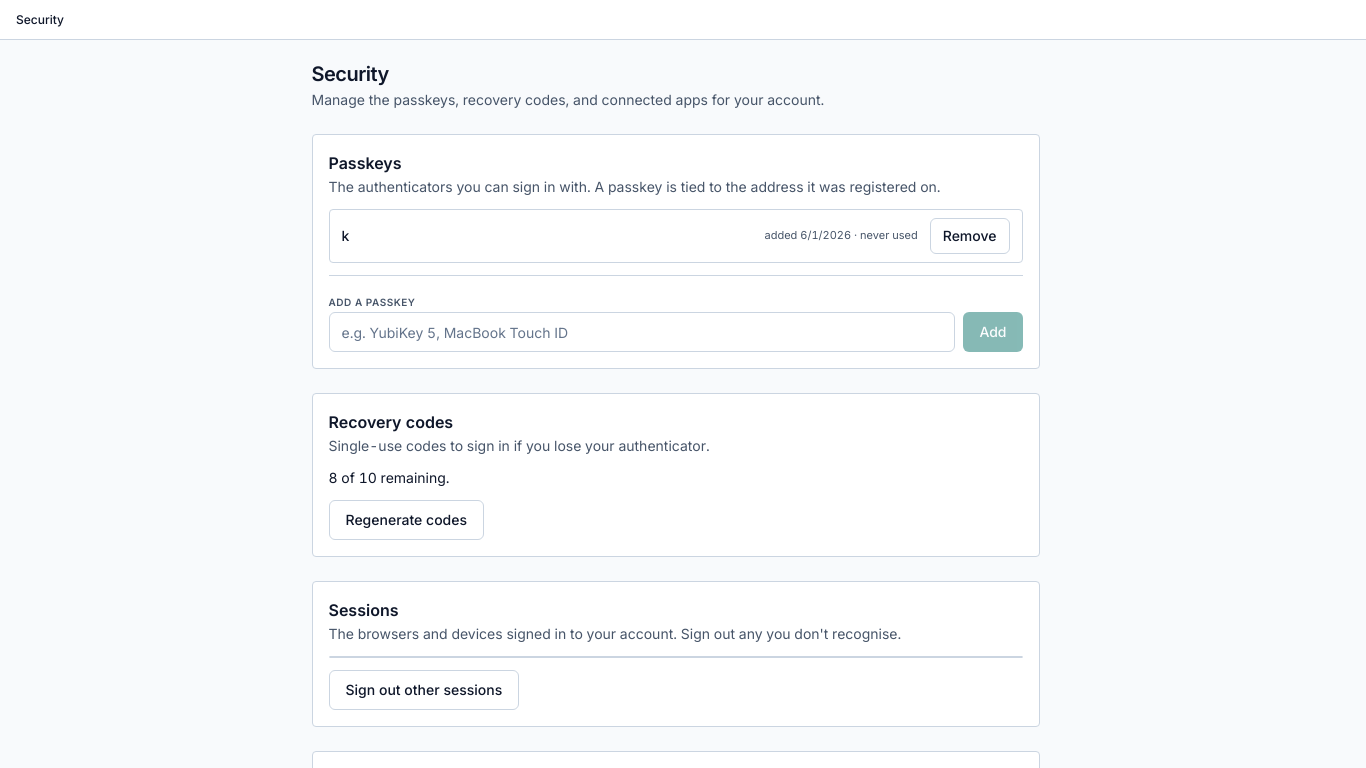
it: AccountSecurityPage › shows the fresh codes after regenerating
Click the button "Regenerate codes" at (406, 520), box x1=328 y1=500 x2=484 y2=540
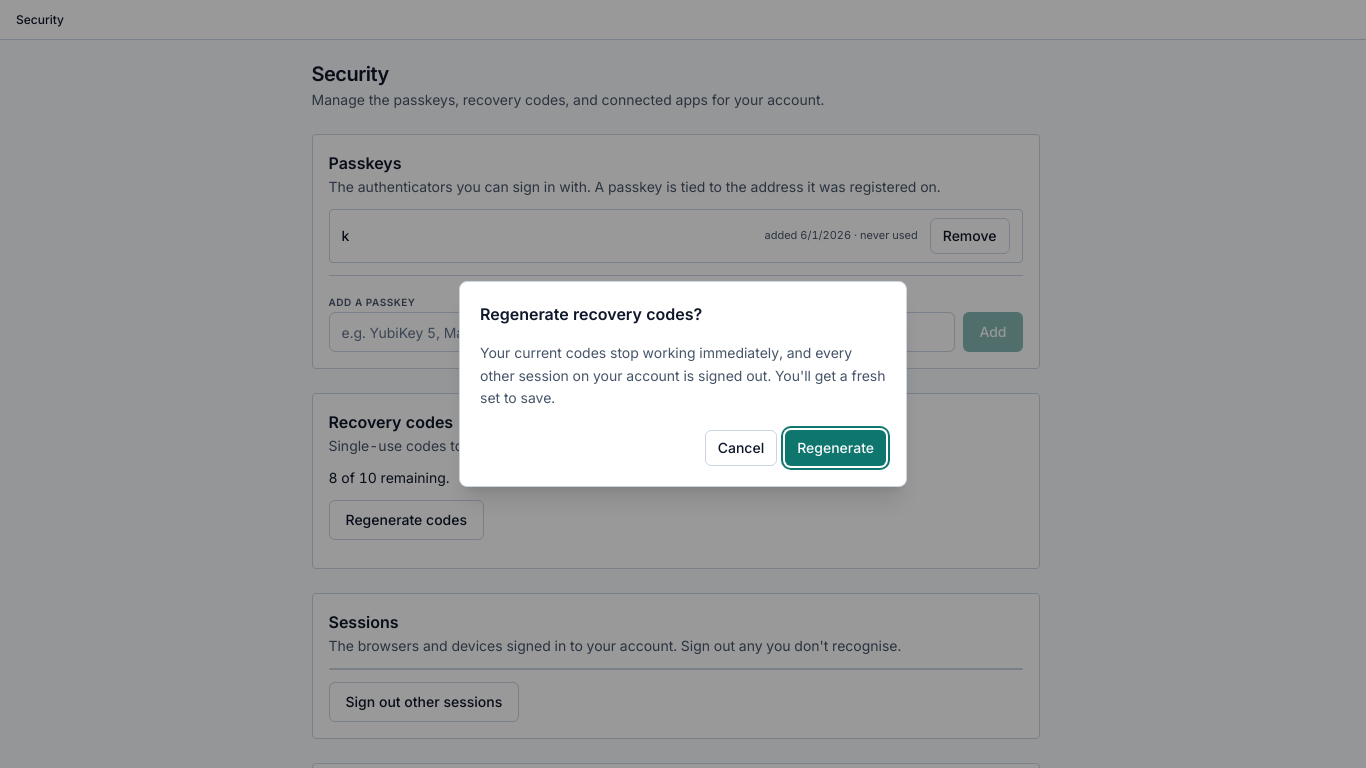
ConfirmDialog → affirmative
Click the button "Regenerate" at (836, 448), box x1=785 y1=430 x2=886 y2=466
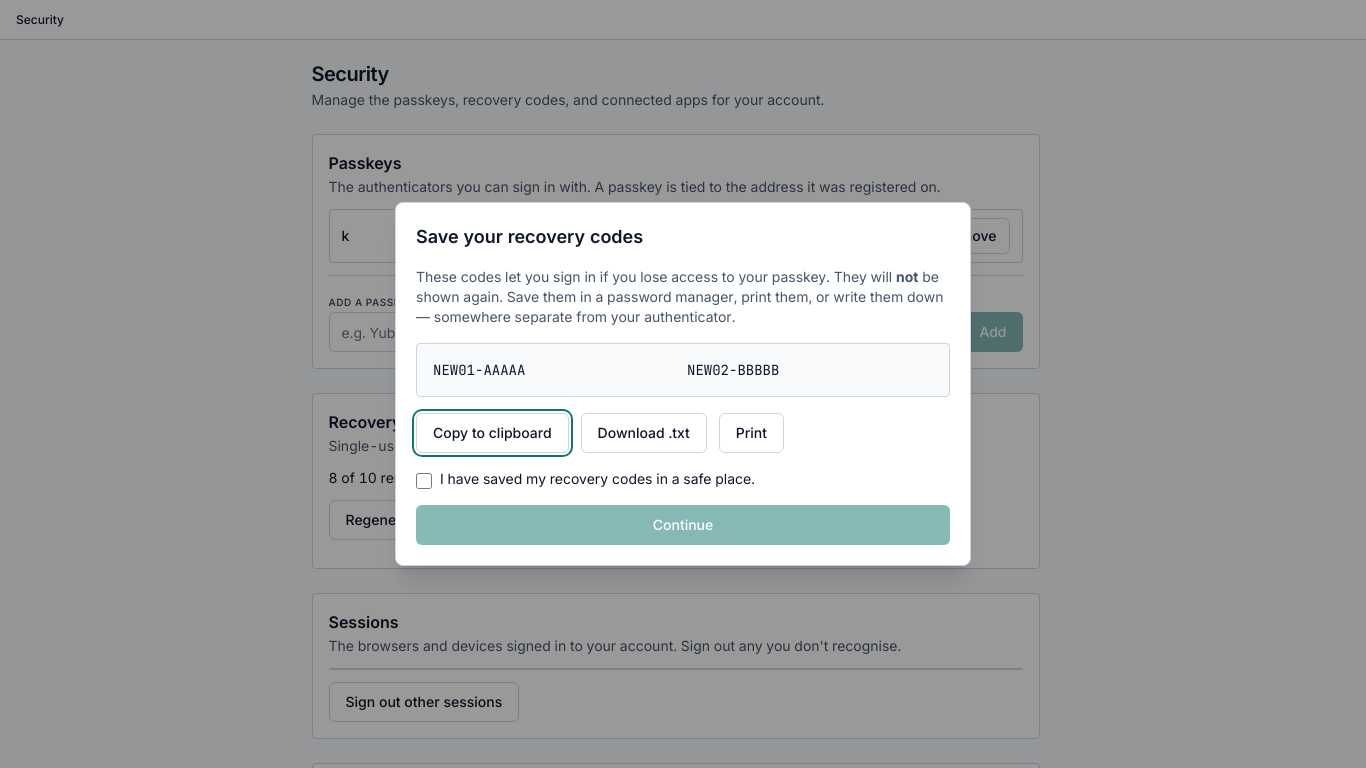
Expected: the list item "NEW01-AAAAA" is shown, x1=433 y1=361 x2=525 y2=379
Expected: the list item "NEW02-BBBBB" is shown, x1=687 y1=361 x2=779 y2=379
